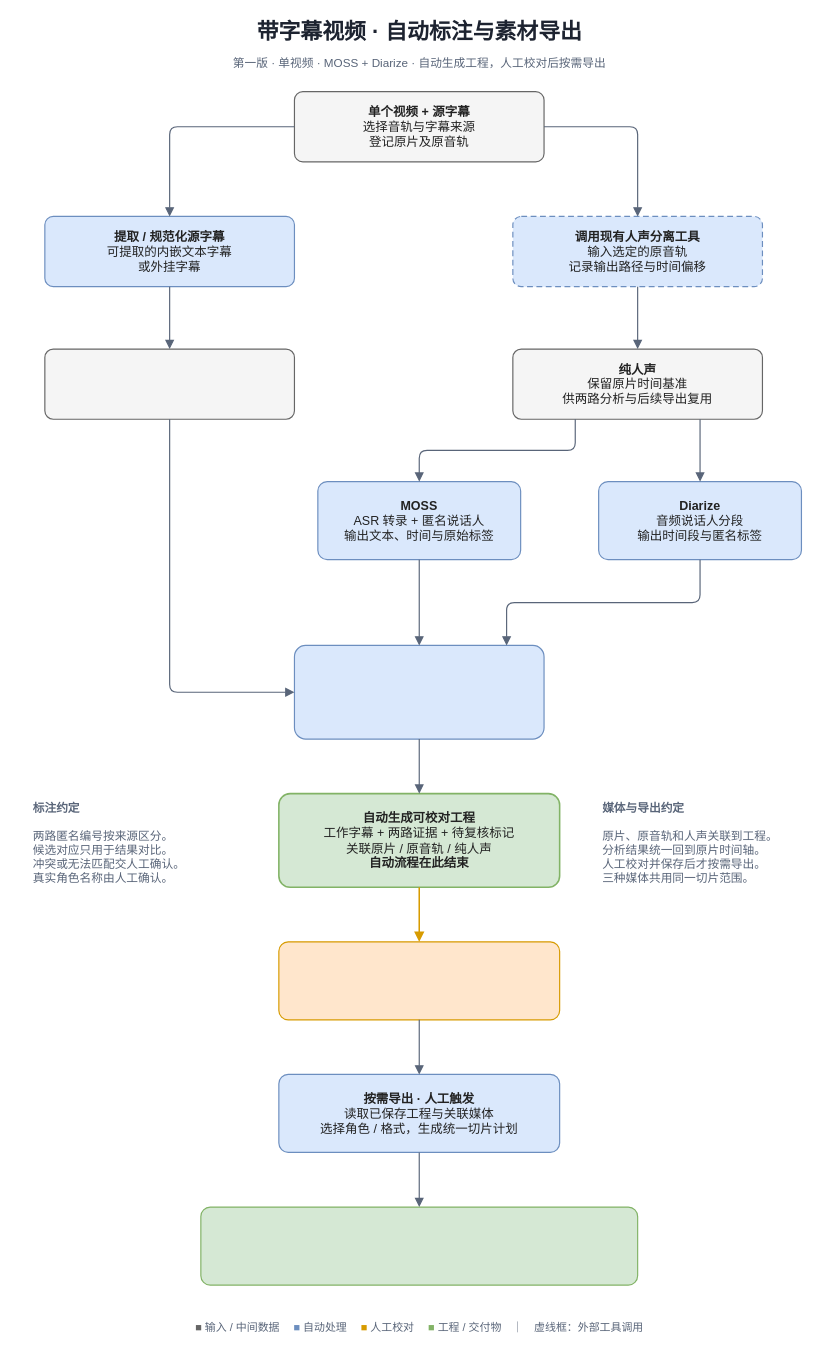
Image size: 838x1353. Some labels were removed from this diagram. Each missing label, with the centre of its shape:
"字幕编辑器 · 人工校对并保存 核对冲突、文字和时间 确认归属、重命名或合并说话人" goes at point (419, 980).
"对齐两路结果 + 冲突检查 以源字幕为基线匹配分析结果 建立匿名标签候选对应 保留未匹配、多候选与覆盖不足" goes at point (419, 692).
"最终素材与字幕 纯人声 WAV · 原音轨视频片段 · 人声音轨视频片段 带说话人标记的 SRT / JSONL · 导出清单" goes at point (419, 1245).
"源字幕基线 正文 / 时间 / 稳定条目 ID 保留来源与原有标记" goes at point (169, 383).
